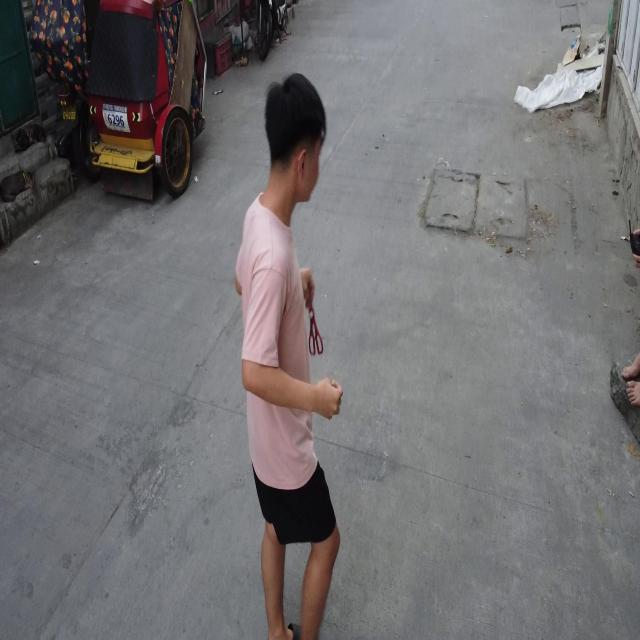scissor: (305, 274, 324, 357)
